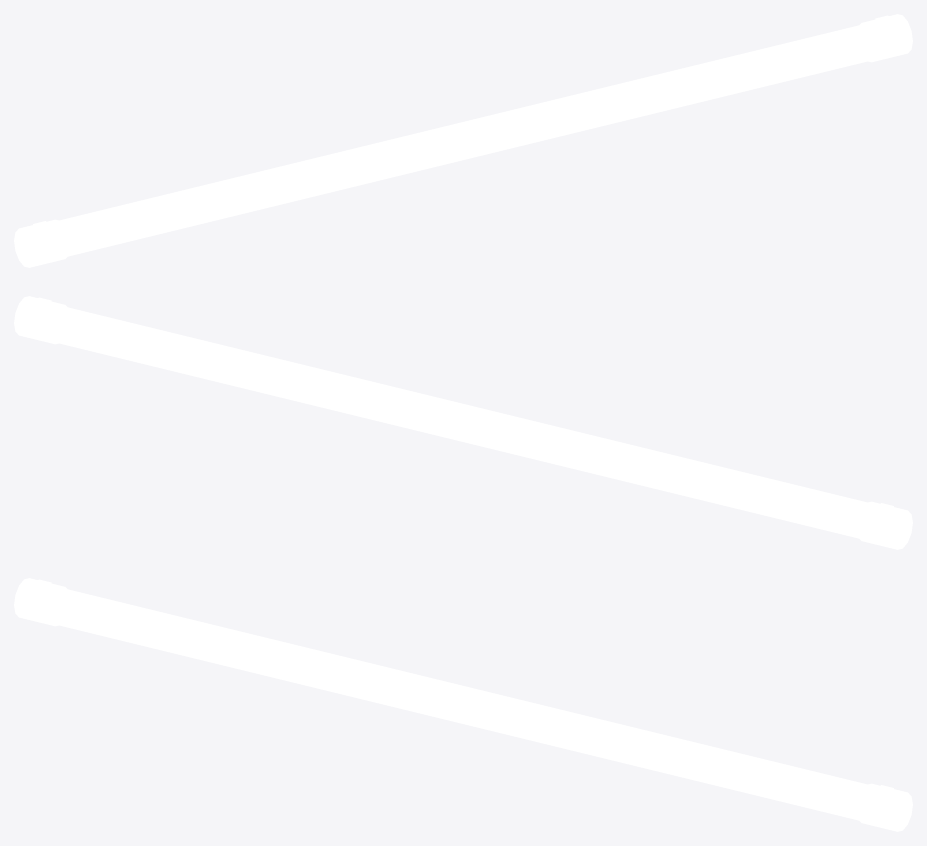
Rendered from RoomLightShort.fbx.
3 renders of one model, top to bottom at view 1: azimuth 30°, elevation 25°; view 2: azimuth 150°, elevation 25°; view 3: azimuth 330°, elevation 25°, orthographic.
Visible parts, largest first — view 1: RoomLightShort; view 2: RoomLightShort; view 3: RoomLightShort.
Part boxes in pixels (bbox=[...]): RoomLightShort: bbox=[14, 14, 912, 267]; RoomLightShort: bbox=[14, 296, 912, 549]; RoomLightShort: bbox=[14, 578, 912, 831].
Size of the model in its own units: 436 by 17.77 by 17.52.
